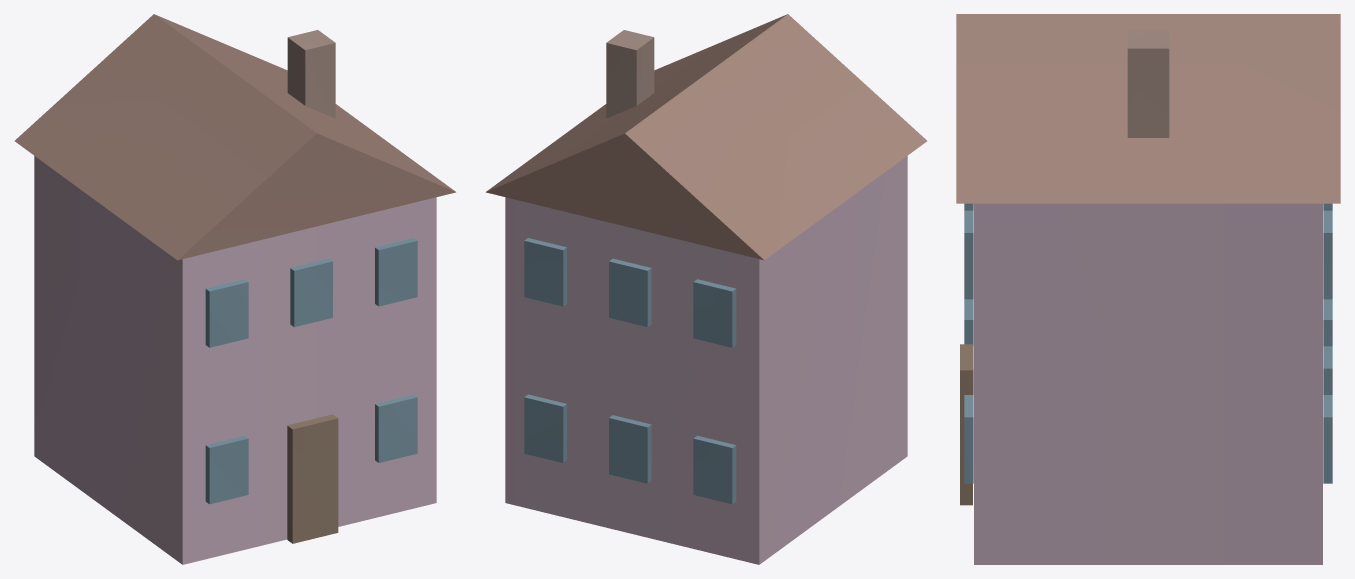
File: cottage-02.glb
3 views of the same model, side by side, from view 1: azimuth 30°, elevation 25°; view 2: azimuth 150°, elevation 25°; view 3: azimuth 270°, elevation 25° (orthographic). The views are drawn at different scales.
Visible parts, largest first — view 1: world; view 2: world; view 3: world.
Boxes of the visible parts, x1,y1,x2,y2 form: world: [14, 14, 455, 564]; world: [486, 14, 927, 564]; world: [956, 14, 1340, 564].
Size of the model in its own units: 1.02 by 1.47 by 1.03.
